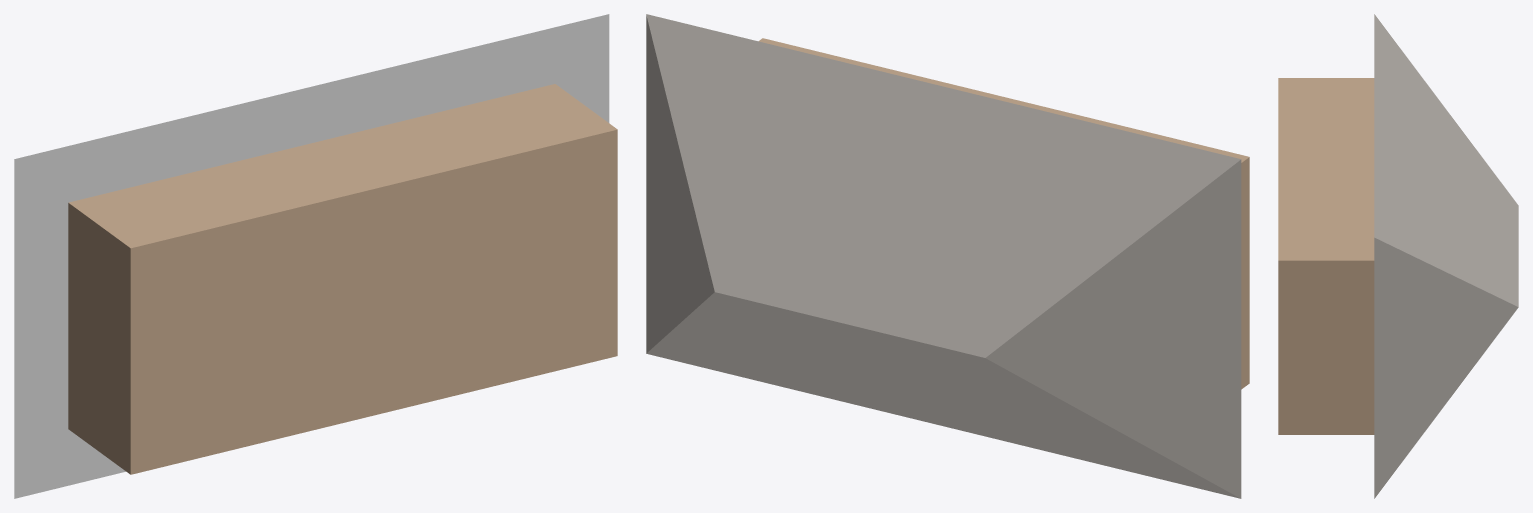
Rendered from Dunkinville High School building.fbx.
3 views of the same model, side by side, from view 1: azimuth 30°, elevation 25°; view 2: azimuth 150°, elevation 25°; view 3: azimuth 270°, elevation 25° (orthographic). The views are drawn at different scales.
Parts seen in each view (by area): view 1: imagetostl_mesh6, imagetostl_mesh9, imagetostl_mesh4, imagetostl_mesh5; view 2: imagetostl_mesh7, imagetostl_mesh2, imagetostl_mesh8, imagetostl_mesh3, imagetostl_mesh4, imagetostl_mesh5; view 3: imagetostl_mesh7, imagetostl_mesh3, imagetostl_mesh4, imagetostl_mesh0.
Part boxes in pixels (box(x1,y1,x2,y2)): imagetostl_mesh6: box(130, 129, 617, 474); imagetostl_mesh9: box(14, 14, 609, 498); imagetostl_mesh4: box(69, 84, 617, 248); imagetostl_mesh5: box(68, 203, 130, 474); imagetostl_mesh7: box(646, 14, 1240, 357); imagetostl_mesh2: box(985, 159, 1241, 498); imagetostl_mesh8: box(646, 292, 1240, 498); imagetostl_mesh3: box(646, 15, 714, 353); imagetostl_mesh4: box(759, 38, 1248, 162); imagetostl_mesh5: box(1241, 157, 1249, 389); imagetostl_mesh7: box(1374, 14, 1518, 306); imagetostl_mesh3: box(1374, 237, 1518, 498); imagetostl_mesh4: box(1278, 78, 1374, 260); imagetostl_mesh0: box(1278, 260, 1374, 434).
Size of the model in its own units: 198000 by 108000 by 90000.
